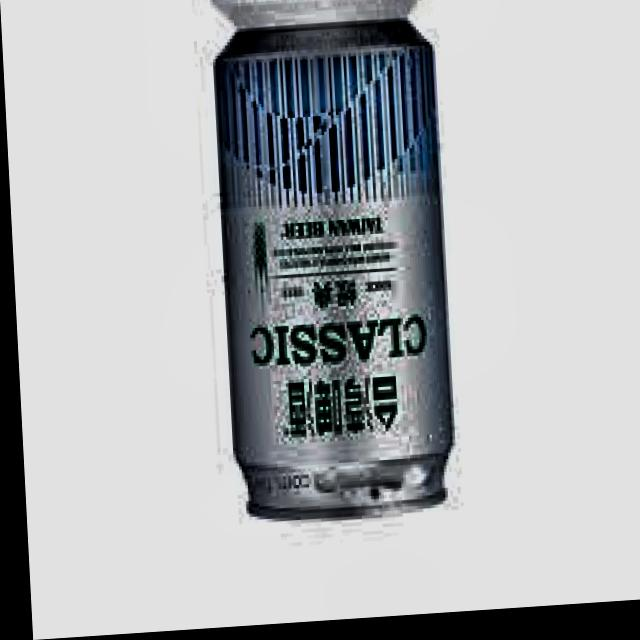can: (201, 14, 462, 544)
